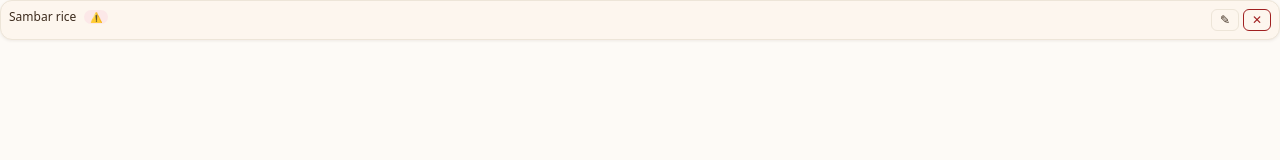
Scenario: MealSlotCell › enters editing when Edit meal is clicked on a filled slot
Step 1. Click the button named "Edit meal" → {"x": 1225, "y": 20}, box [1211,9,1239,31]
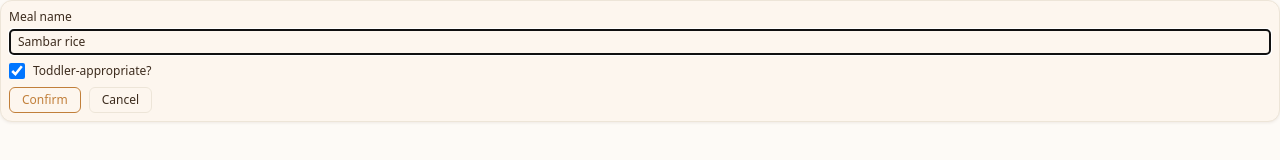
Result: the field labelled "Meal name" is shown at [9,29,1271,55]
